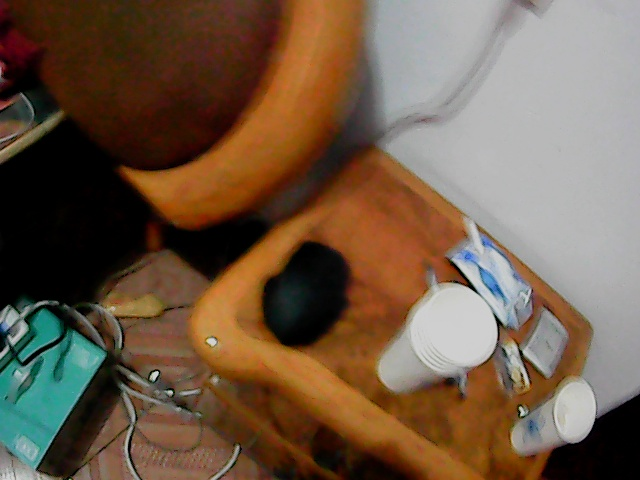cup: (375, 281, 499, 408)
mouse: (257, 237, 356, 350)
